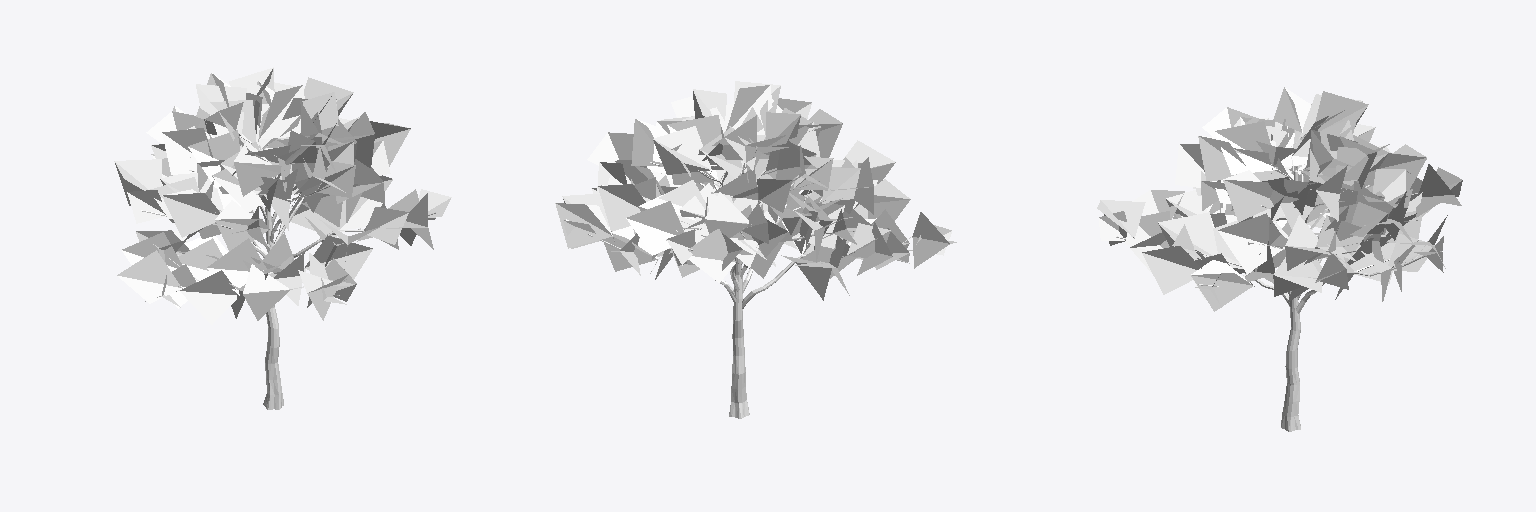
The model's file is acacia.obj.
3 views of the same model, side by side, from view 1: azimuth 30°, elevation 25°; view 2: azimuth 150°, elevation 25°; view 3: azimuth 270°, elevation 25° (orthographic).
Parts seen in each view (by area): view 1: tree; view 2: tree; view 3: tree.
Boxes of the visible parts, box(x1,y1,x2,y2) form: tree: box(114, 67, 451, 409); tree: box(555, 81, 956, 418); tree: box(1097, 87, 1462, 431).
Size of the model in its own units: 199 by 188 by 195.